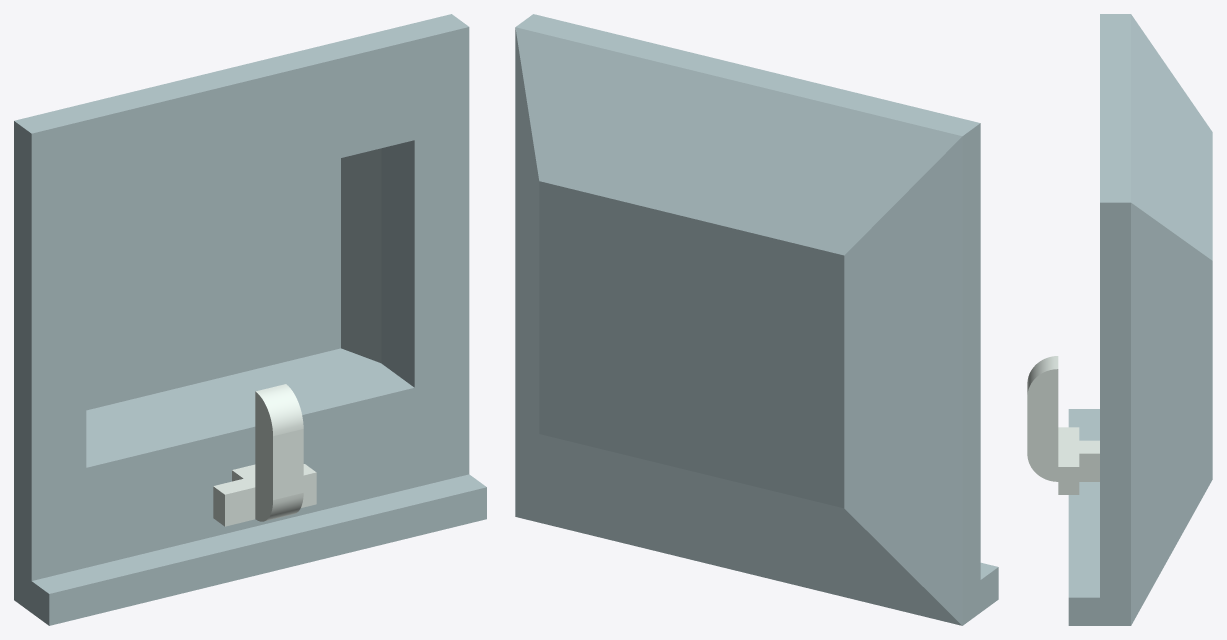
Rendered from kitchenSink.obj.
The picture shows the model from 3 angles, left to right: view 1: azimuth 30°, elevation 25°; view 2: azimuth 150°, elevation 25°; view 3: azimuth 270°, elevation 25°; orthographic projection. The views are drawn at different scales.
Visible parts, largest first — view 1: sink; view 2: sink; view 3: sink.
Part boxes in pixels (box(x1,y1,x2,y2)): sink: box(14, 14, 486, 625); sink: box(515, 14, 998, 625); sink: box(1027, 14, 1212, 625).
Bounding box in the file's own units: 0.9045 × 0.9466 × 0.3757.
